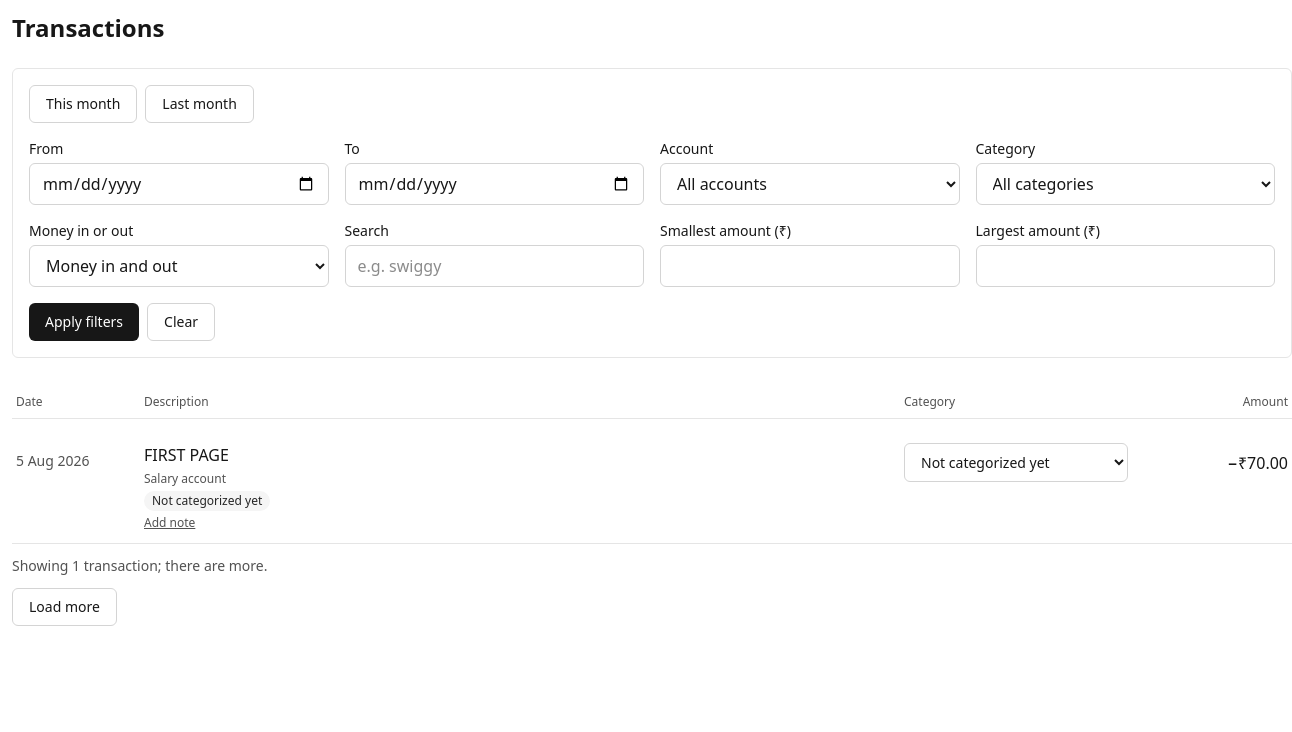
TransactionsView: the list › loads the next page with the cursor the last page gave
Expected: the heading "Transactions" is shown, [12, 11, 164, 44]
Expected: the text "FIRST PAGE" is shown, [144, 444, 229, 466]
Click the button "Load more" at (64,607), box [12, 588, 117, 626]
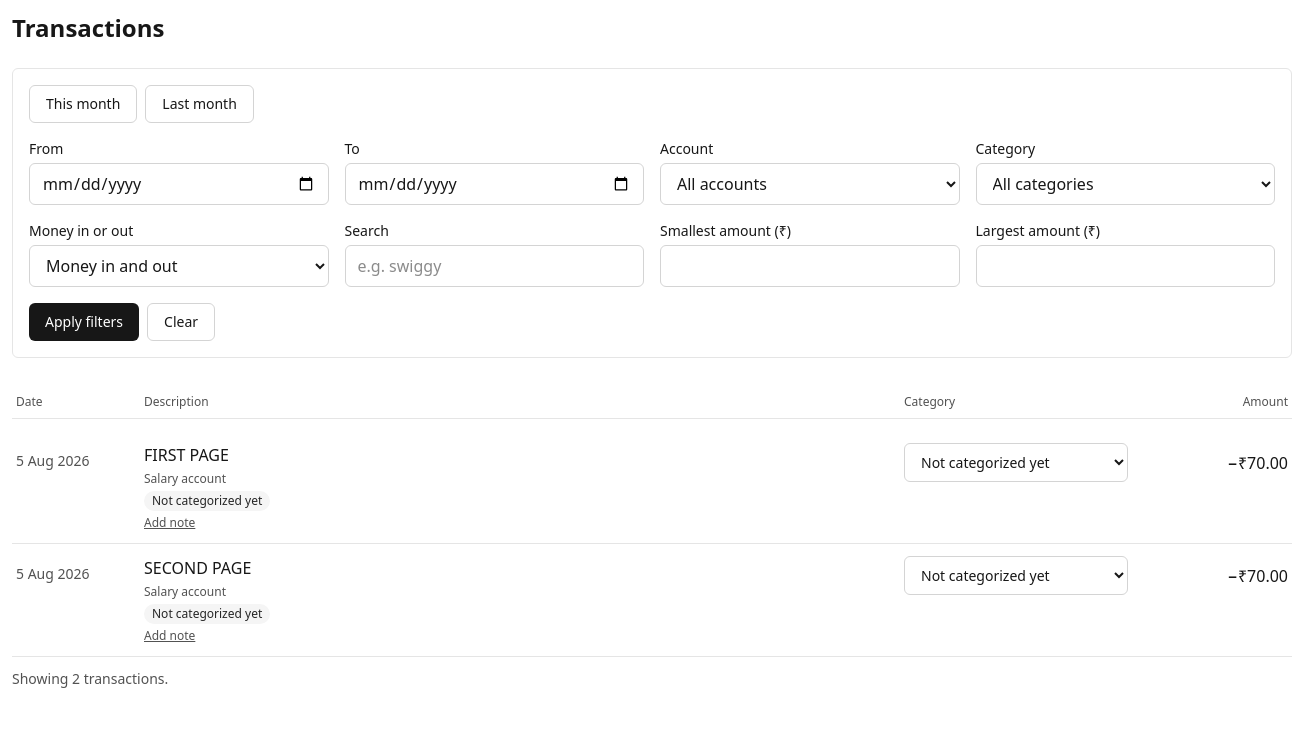
Expected: the text "FIRST PAGE" is shown, [144, 444, 229, 466]
Result: the text "SECOND PAGE" is shown at [144, 557, 251, 579]
Result: the button "Load more" is gone
